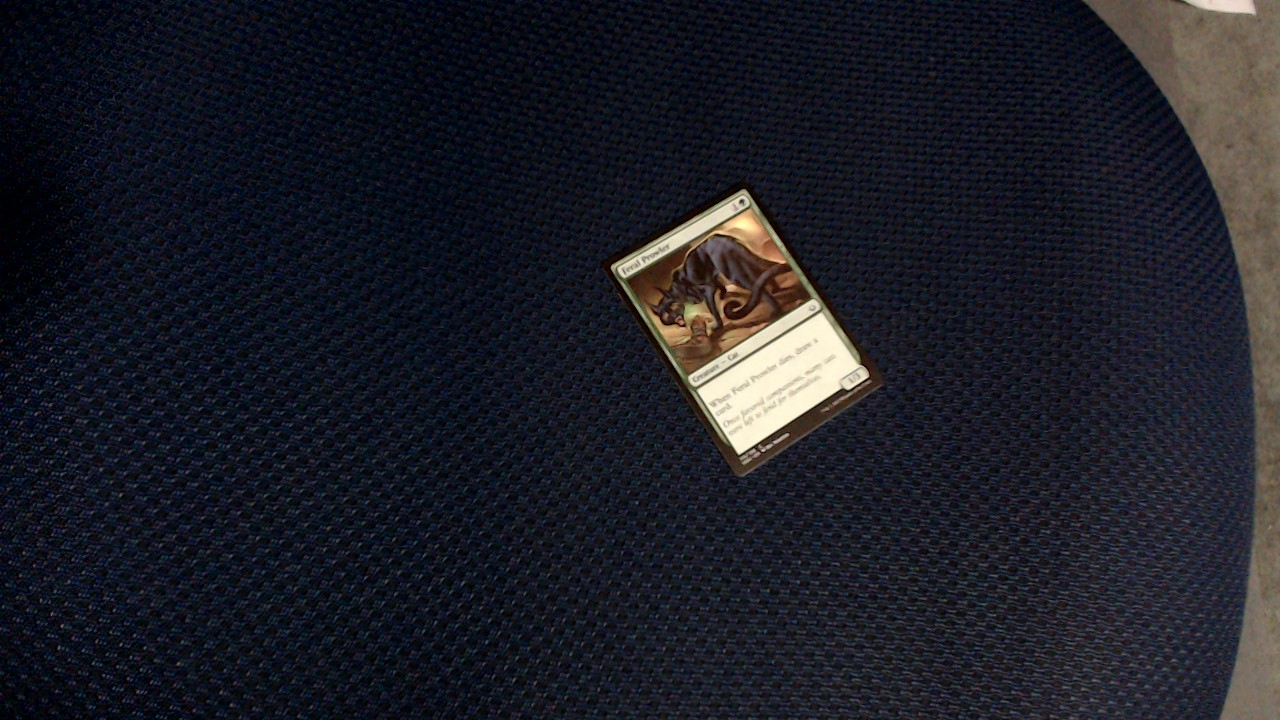MTG Card: (599, 181, 912, 483)
